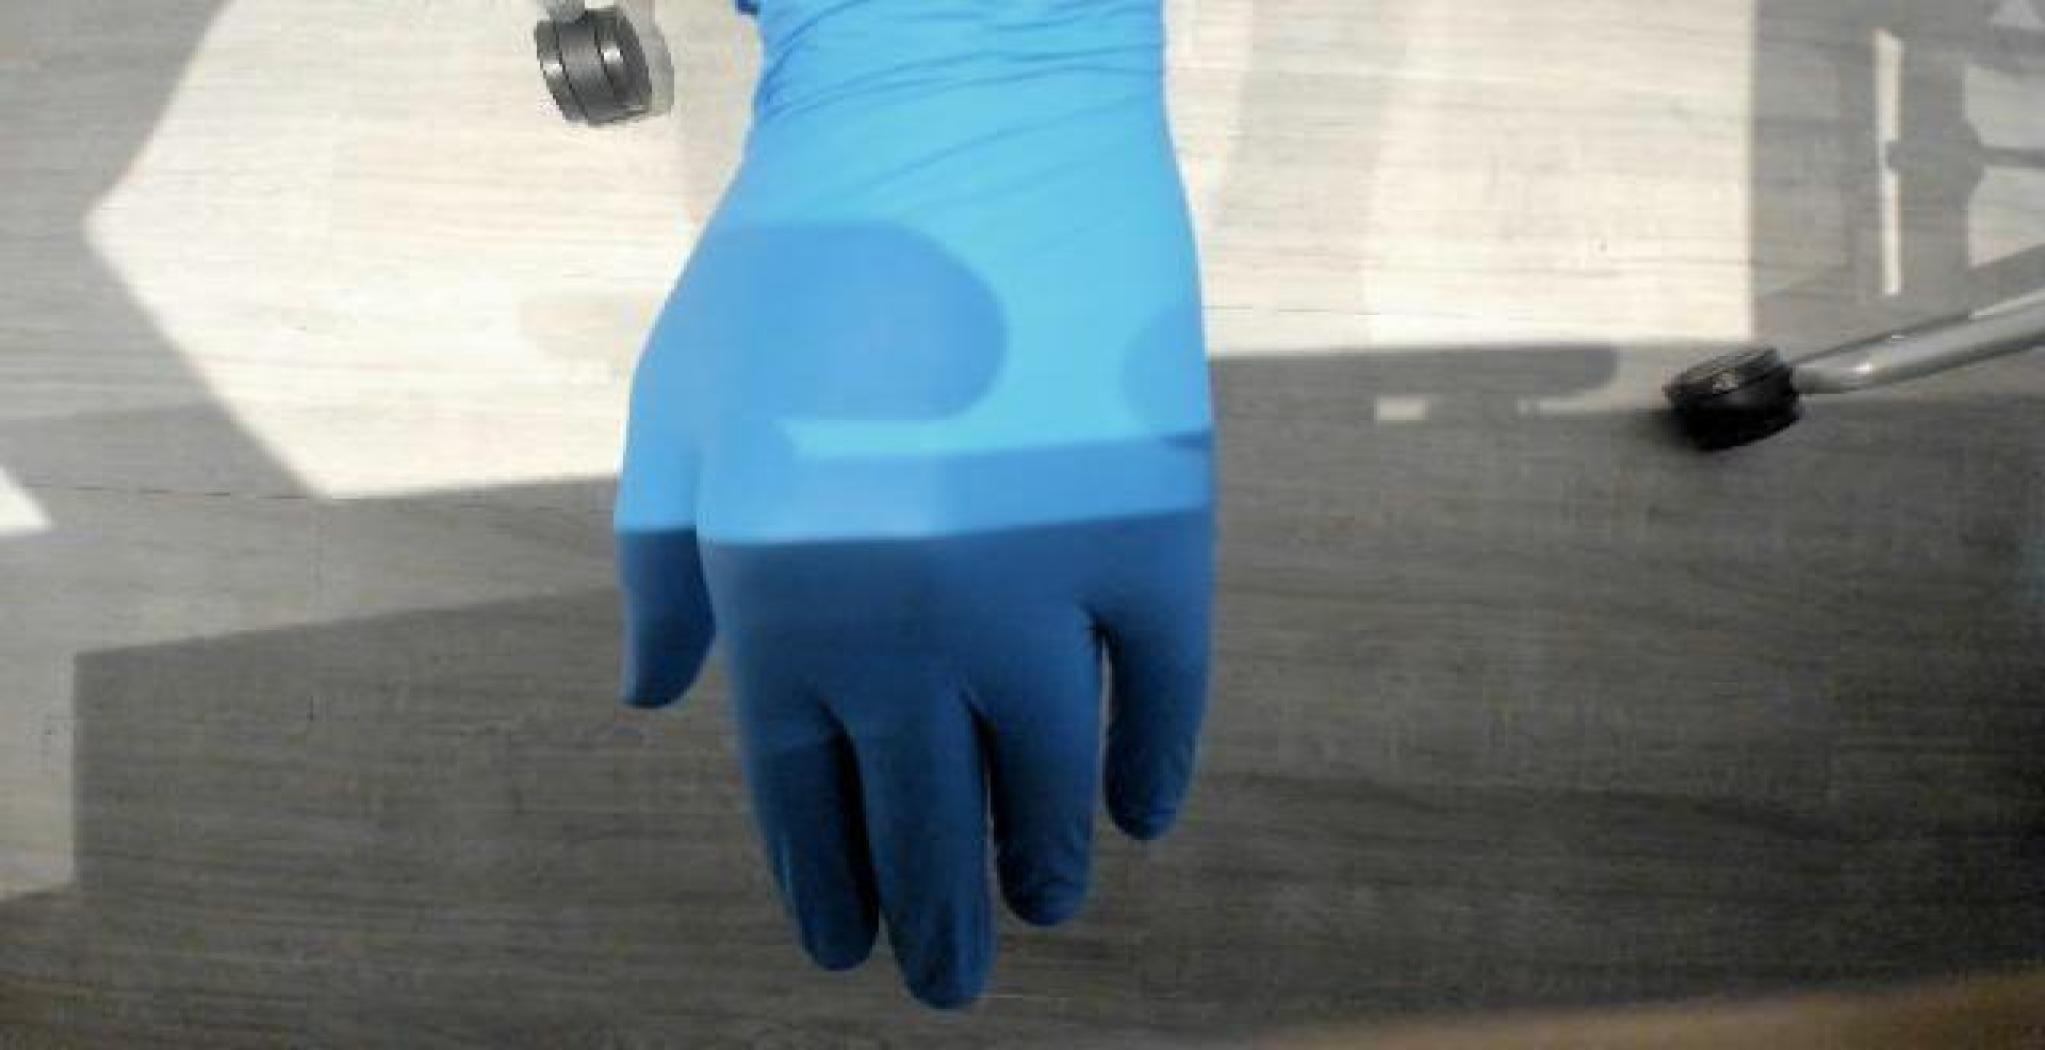gloved: (441, 0, 1363, 1003)
